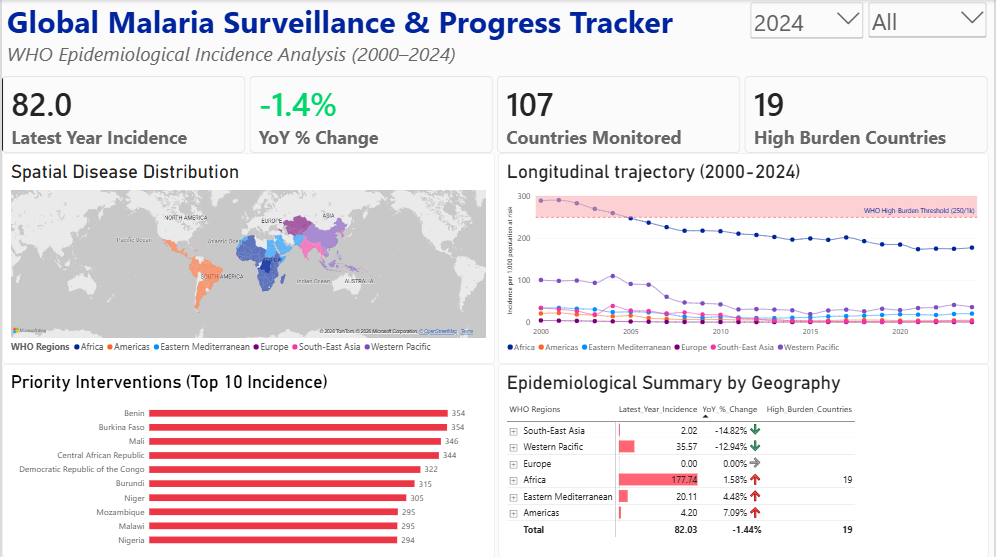

This screenshot's page, from the dashboard's own definition file:
{"tool":"powerbi","page":{"name":"Page 1","canvas":[1920,1080],"ordinal":0},"visuals":[{"type":"textbox","box":[9.8,0,1426.5,147.3],"z":0},{"type":"cardVisual","fields":{"Data":["Fact_Malaria_Incidence.Latest_Year_Incidence","Fact_Malaria_Incidence.YoY_%_Change","Fact_Malaria_Incidence.Countries_Monitored","Fact_Malaria_Incidence.High_Burden_Countries"]},"box":[0,147.1,1910.3,149],"z":1000},{"type":"slicer","fields":{"Values":["Fact_Malaria_Incidence.Year"]},"box":[1443.7,0,228.3,100.7],"z":2000},{"type":"slicer","fields":{"Values":["Fact_Malaria_Incidence.WHO Regions"]},"box":[1672,0,238.2,100.7],"z":3000},{"type":"filledMap","title":"Spatial Disease Distribution","fields":{"Category":["Fact_Malaria_Incidence.Country Name"],"Series":["Fact_Malaria_Incidence.WHO Regions"]},"box":[0,296.1,954.2,408.4],"z":4000},{"type":"lineChart","title":"Longitudinal trajectory (2000-2024)","fields":{"Category":["Fact_Malaria_Incidence.Year"],"Series":["Fact_Malaria_Incidence.WHO Regions"],"Y":["Fact_Malaria_Incidence.Avg_Malaria_Incidence"]},"box":[960,296.1,950.3,408.4],"z":5000},{"type":"clusteredBarChart","title":"Priority Interventions (Top 10 Incidence)","fields":{"Category":["Fact_Malaria_Incidence.Country Name"],"Y":["Fact_Malaria_Incidence.Avg_Malaria_Incidence"]},"box":[0,704.5,954.2,375.5],"z":6000},{"type":"pivotTable","title":"Epidemiological Summary by Geography","fields":{"Rows":["Fact_Malaria_Incidence.WHO Regions","Fact_Malaria_Incidence.Country Name"],"Values":["Fact_Malaria_Incidence.Latest_Year_Incidence","Fact_Malaria_Incidence.YoY_%_Change","Fact_Malaria_Incidence.High_Burden_Countries"]},"box":[960,704.5,950.3,375.5],"z":7000}]}

Visuals, with their boxes in screenshot pixels (x1, y1, x2, y2), scaled from the page's 1920x1080 canvas onto the 996x557 screenshot:
textbox: 5:0:745:76
cardVisual - Fact_Malaria_Incidence.Latest_Year_Incidence x Fact_Malaria_Incidence.YoY_%_Change: 0:76:991:153
slicer - Fact_Malaria_Incidence.Year: 749:0:867:52
slicer - Fact_Malaria_Incidence.WHO Regions: 867:0:991:52
"Spatial Disease Distribution" filledMap: 0:153:495:363
"Longitudinal trajectory (2000-2024)" lineChart: 498:153:991:363
"Priority Interventions (Top 10 Incidence)" clusteredBarChart: 0:363:495:556
"Epidemiological Summary by Geography" pivotTable: 498:363:991:556
